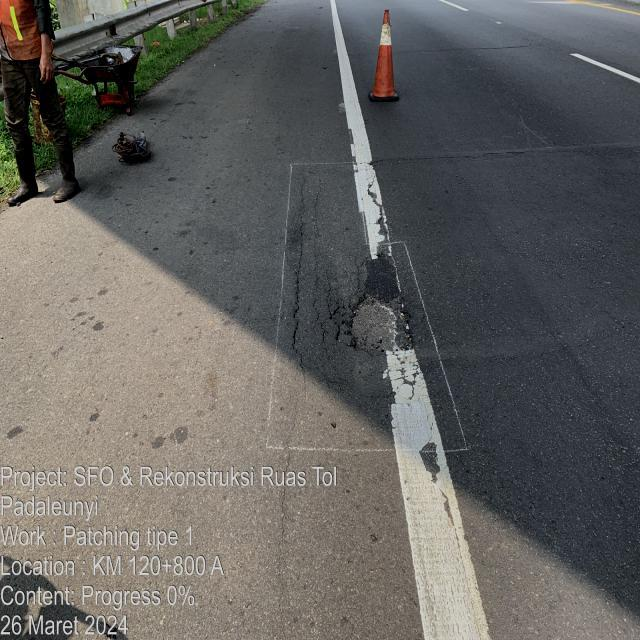Buraco: (324, 289, 418, 360), (318, 63, 331, 72)
